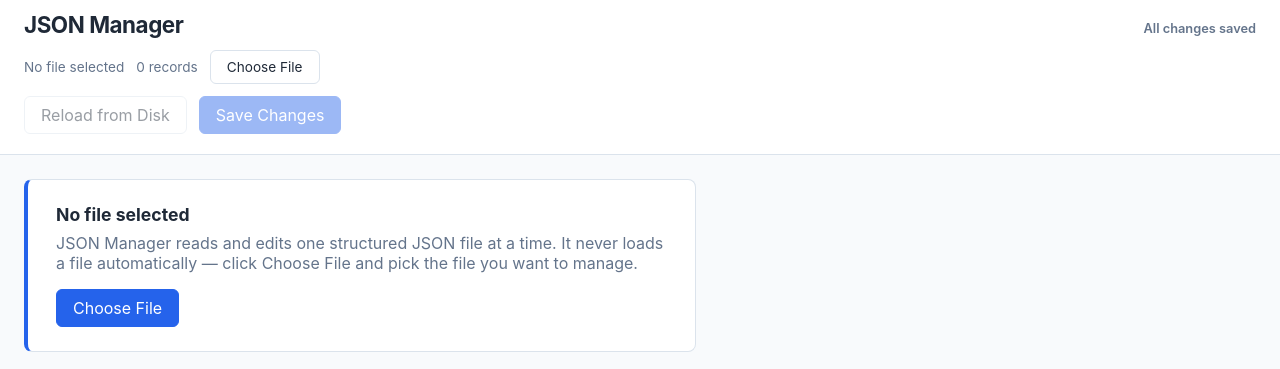
it: App › loads records after a successful picker selection
Click the button "Choose File" next to "records".
click(265, 67)  # box top-left (210, 50), bottom-right (320, 84)
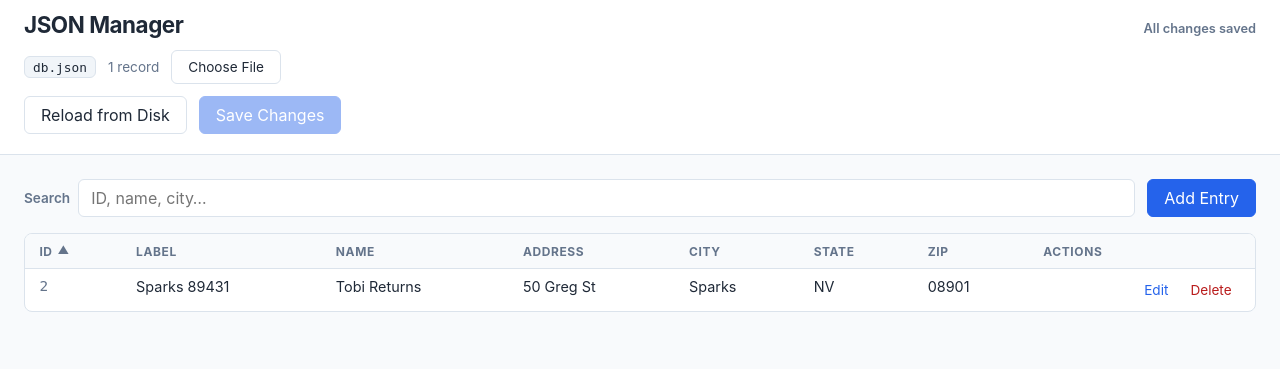
Check: the text "db.json" is shown, box top-left (24, 56), bottom-right (96, 78)
Check: the text "1 record" is shown, box top-left (108, 59), bottom-right (159, 75)
Check: the text "Tobi Returns" is shown, box top-left (322, 269), bottom-right (508, 311)
